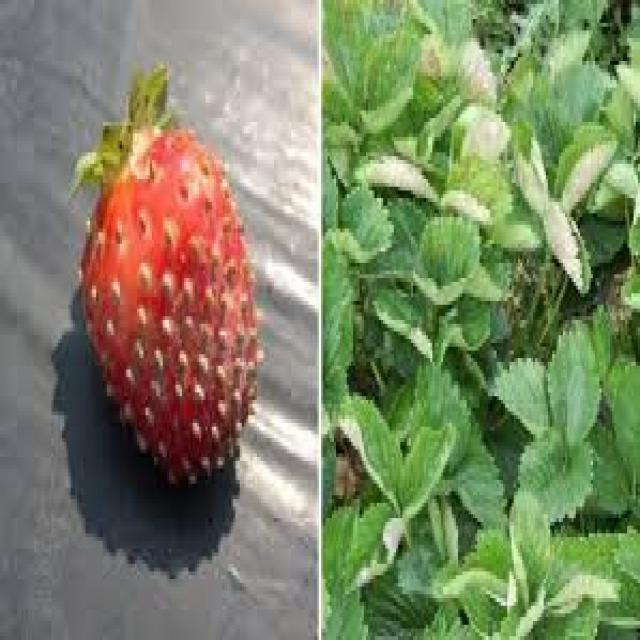Oído: (70, 80, 258, 498)
